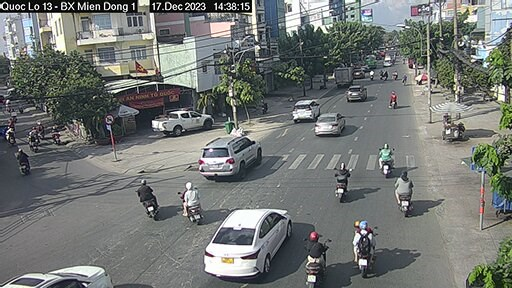car: (213, 207, 290, 274), (197, 139, 260, 173), (152, 109, 220, 136), (314, 111, 344, 136), (293, 97, 317, 123), (346, 82, 367, 103)
motorbike: (175, 182, 204, 225), (138, 177, 165, 217), (303, 239, 327, 281), (353, 227, 376, 270), (332, 161, 354, 200), (394, 174, 416, 212), (376, 140, 397, 175), (18, 147, 30, 175)
truck: (334, 67, 356, 93)
